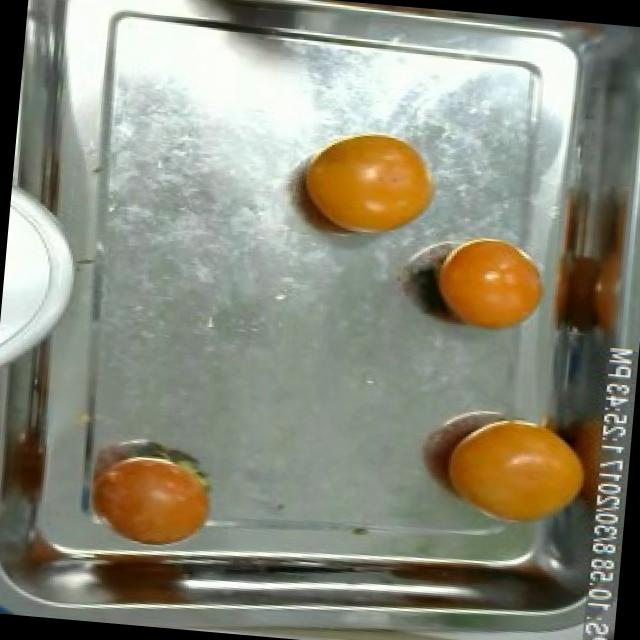Fruit: (428, 401, 596, 542), (282, 117, 448, 254), (72, 420, 230, 554), (411, 222, 556, 348)
